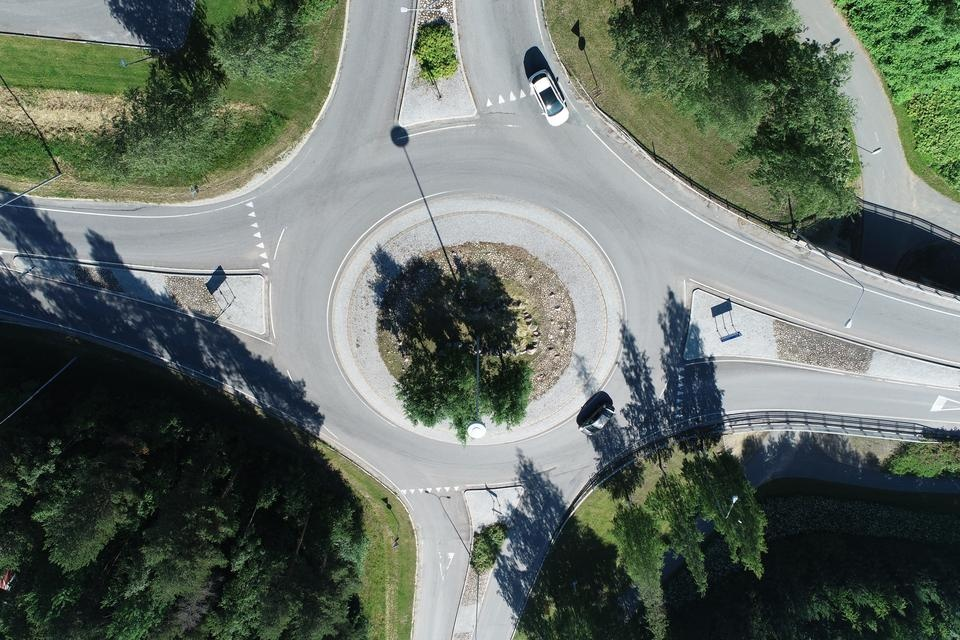roundabout: (185, 47, 776, 551)
